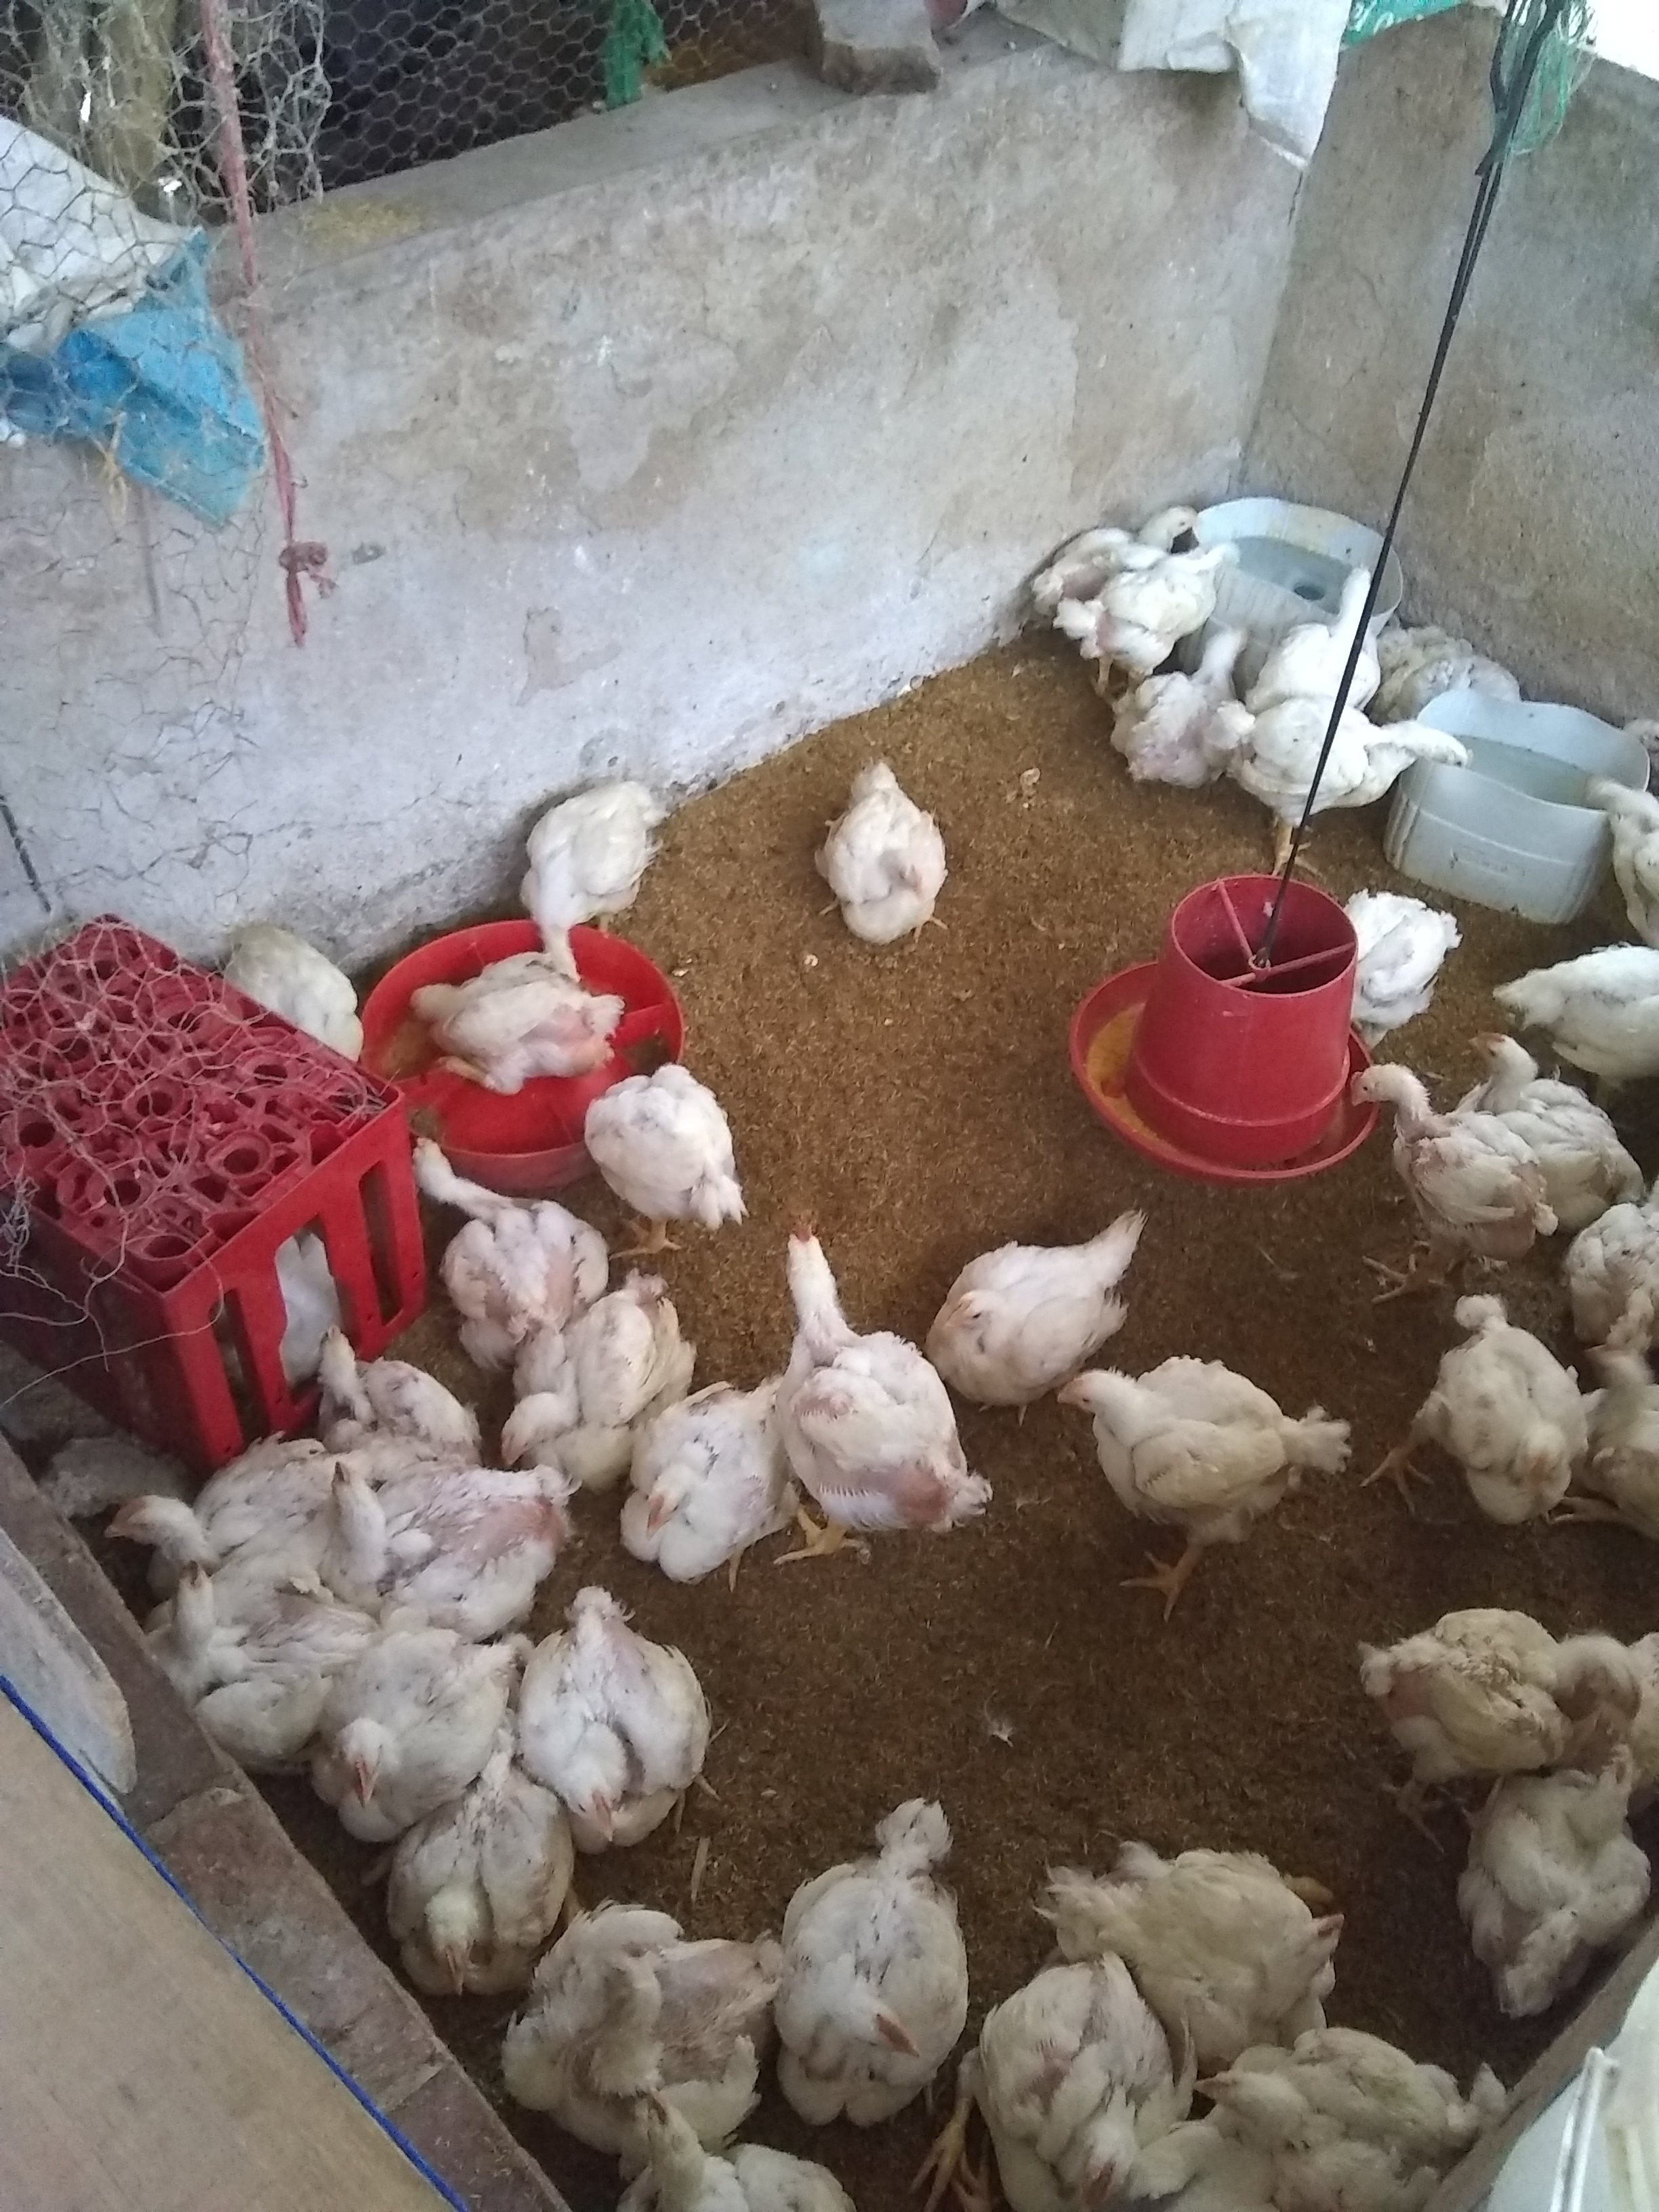Pollos: (1335, 1576, 1645, 1827), (760, 1219, 983, 1566), (1066, 1346, 1347, 1594), (1178, 1980, 1476, 2205), (769, 1799, 964, 2107), (1455, 1740, 1654, 2033), (945, 1954, 1159, 2203), (530, 1594, 728, 1857), (511, 1897, 756, 2109), (1389, 1277, 1582, 1543), (1086, 1831, 1335, 2024), (373, 1764, 587, 1989), (319, 1630, 556, 1832), (490, 1273, 702, 1494), (934, 1209, 1141, 1430), (1345, 1040, 1541, 1268), (335, 1454, 568, 1637), (411, 1113, 594, 1346), (627, 1367, 821, 1578), (143, 1564, 362, 1742), (504, 766, 680, 977), (101, 1439, 357, 1578), (1225, 705, 1476, 843), (1464, 1010, 1635, 1205), (392, 956, 603, 1106), (582, 1076, 753, 1256), (817, 749, 964, 956), (199, 906, 366, 1085), (1513, 900, 1659, 1099), (624, 2083, 847, 2212), (1312, 864, 1457, 1049), (310, 1324, 490, 1470), (1023, 545, 1243, 664), (1244, 538, 1384, 712), (235, 1226, 376, 1395), (1539, 1338, 1659, 1531), (1119, 627, 1243, 779), (1565, 1174, 1659, 1346), (1051, 489, 1194, 589), (1598, 751, 1659, 935), (1412, 610, 1490, 709), (1615, 690, 1659, 773)
